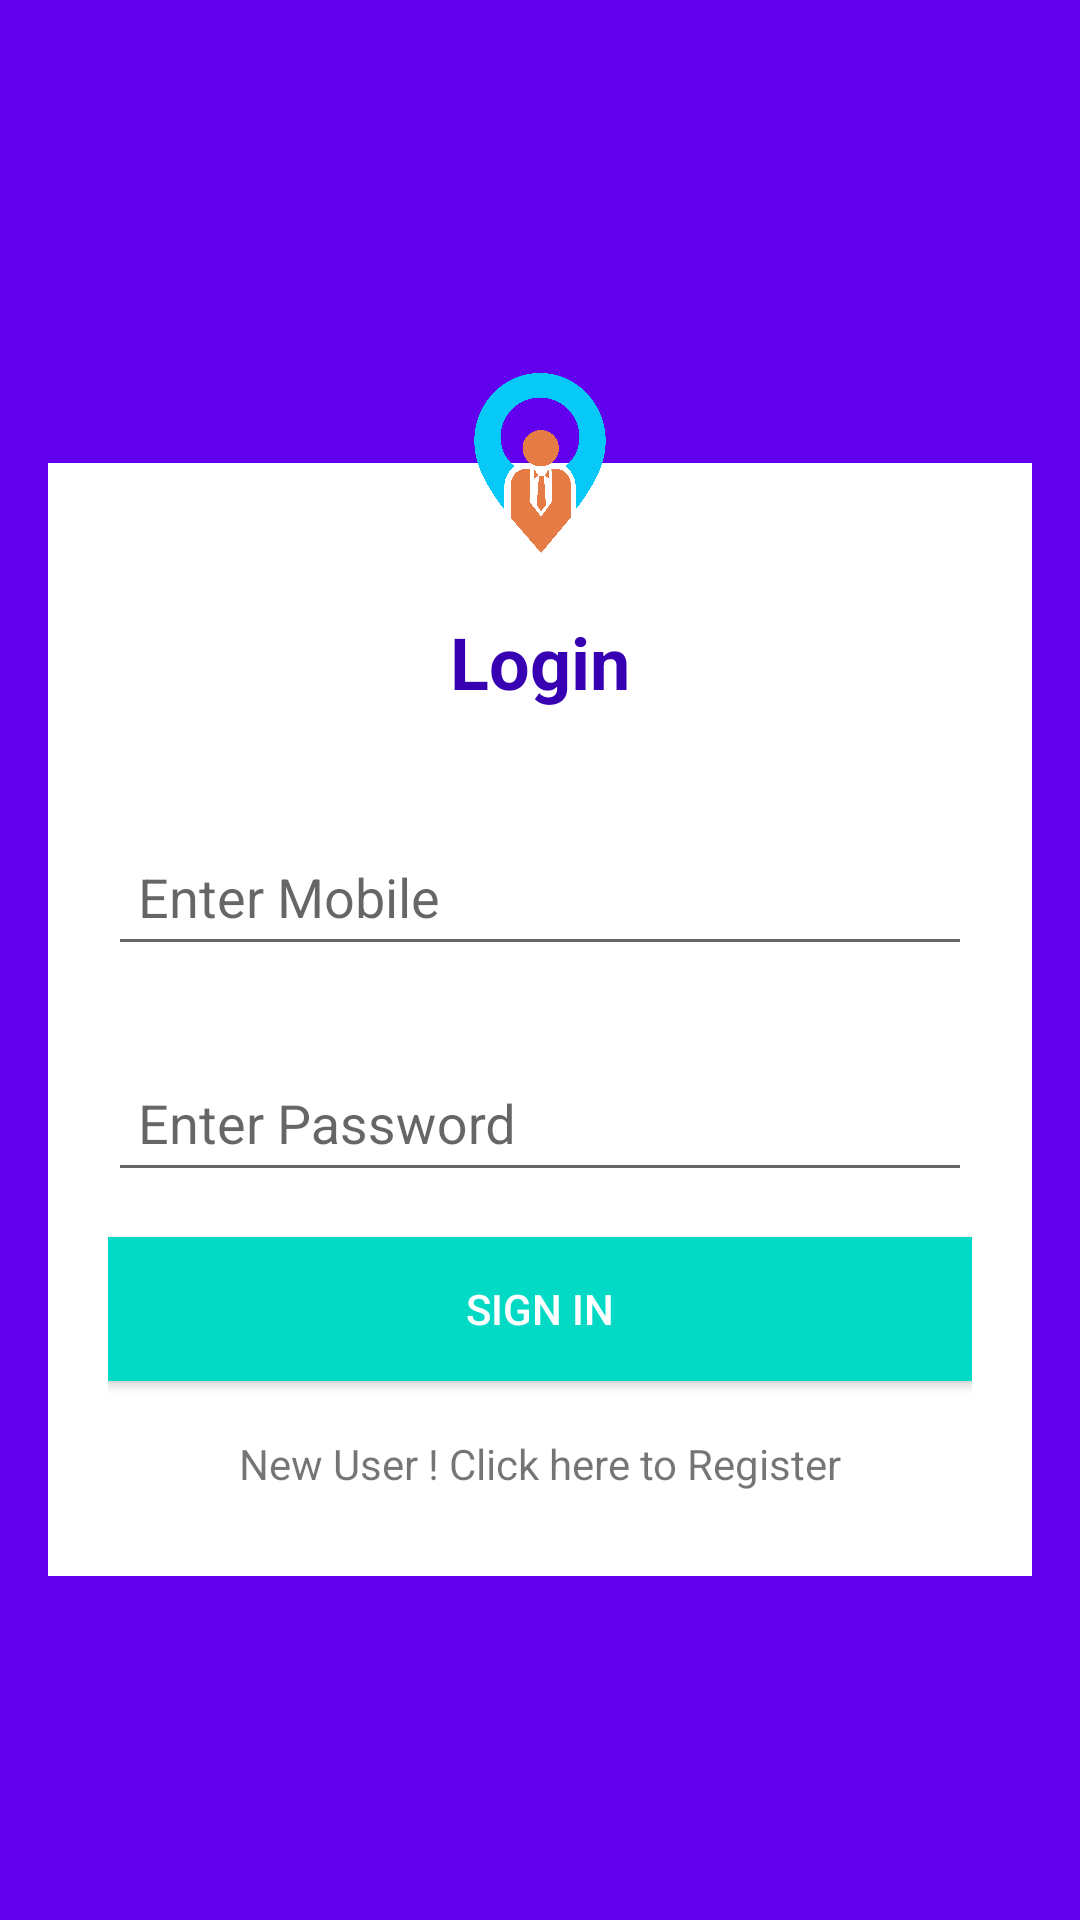

Icons on this 1080×1920 Android screen, each with the point to tap as point (x, y):
job suchi: point (540, 463)
